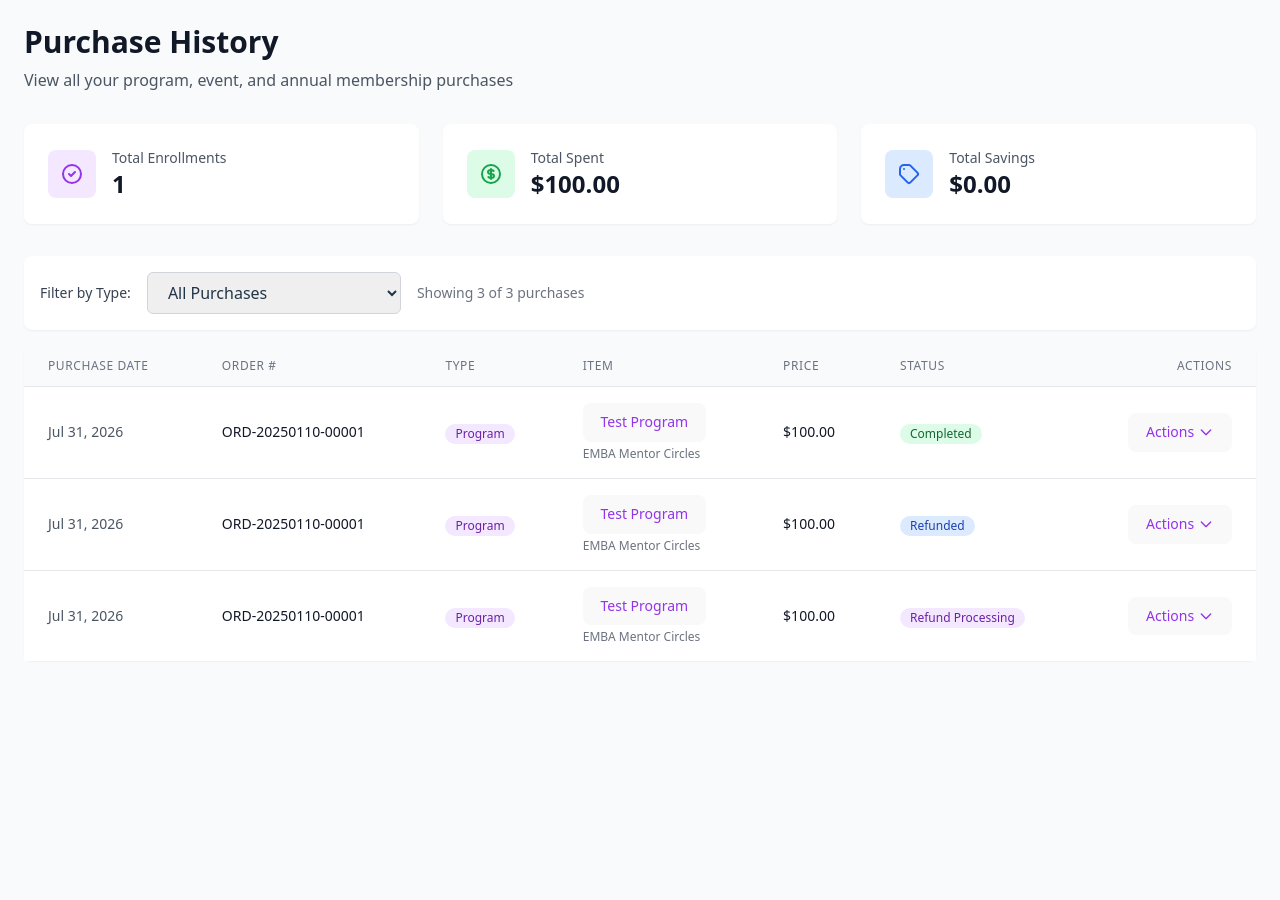
Test: PurchaseHistory - Refund UI › Multiple Purchases › should show refund option only for eligible purchases
Check: the number of buttons "Test Program" is 3, box [583, 403, 706, 442]; [583, 495, 706, 534]; [583, 587, 706, 625]
# Open first dropdown (completed purchase) - should have Request Refund
Click the button "Actions" next to "Completed" at coordinates (1180, 432), box [1128, 413, 1232, 452]
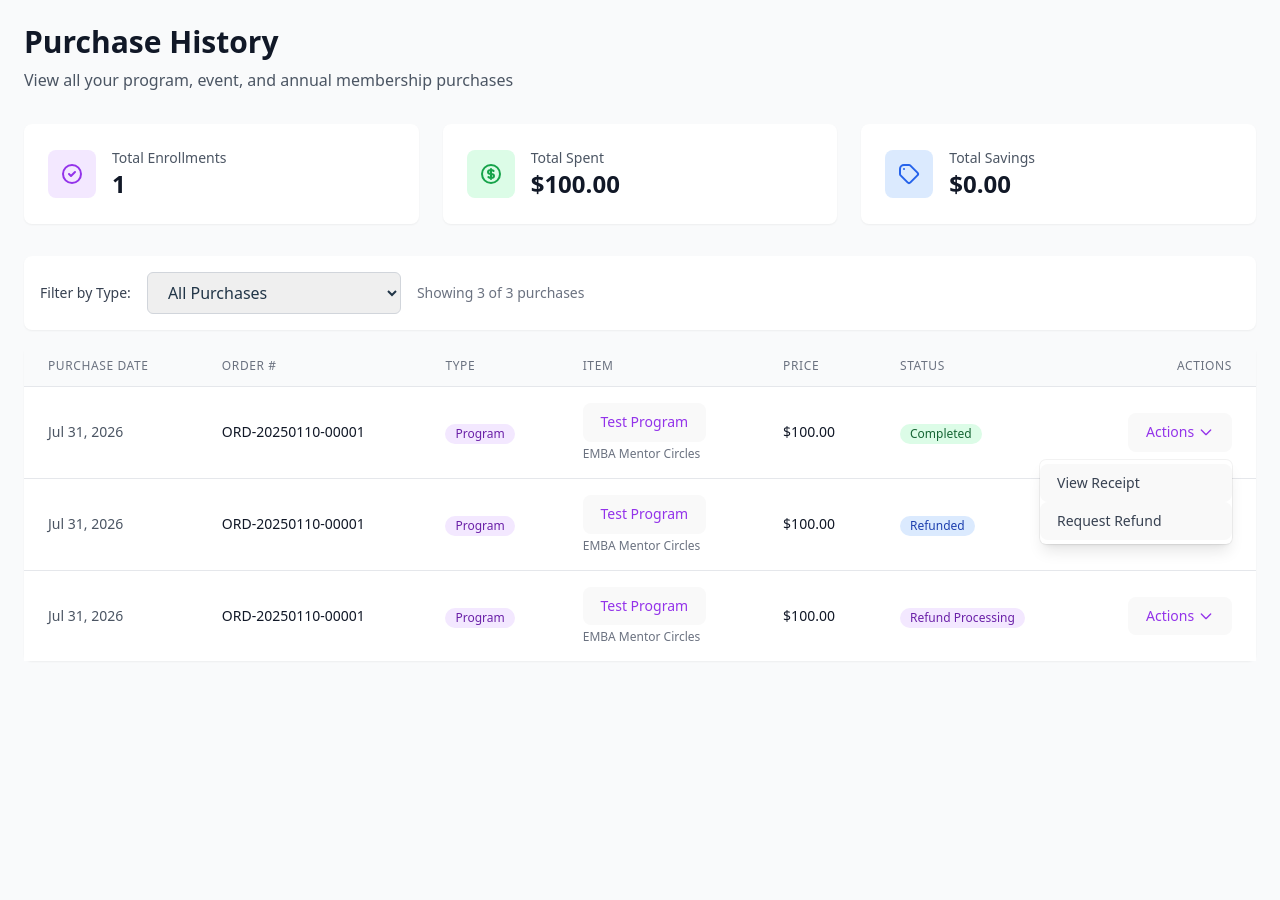
Check: the button "Request Refund" is shown, box [1040, 502, 1232, 540]
